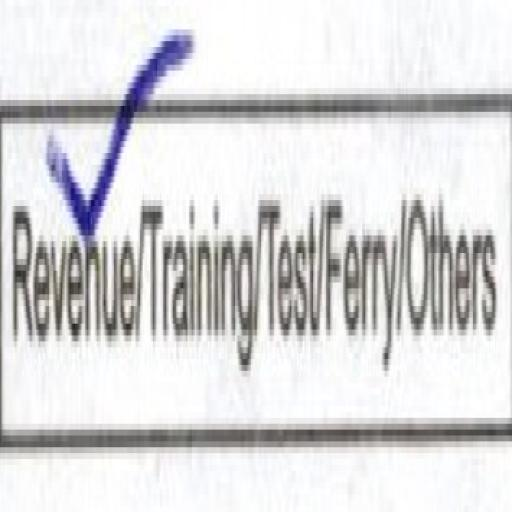check: (0, 0, 144, 477)
